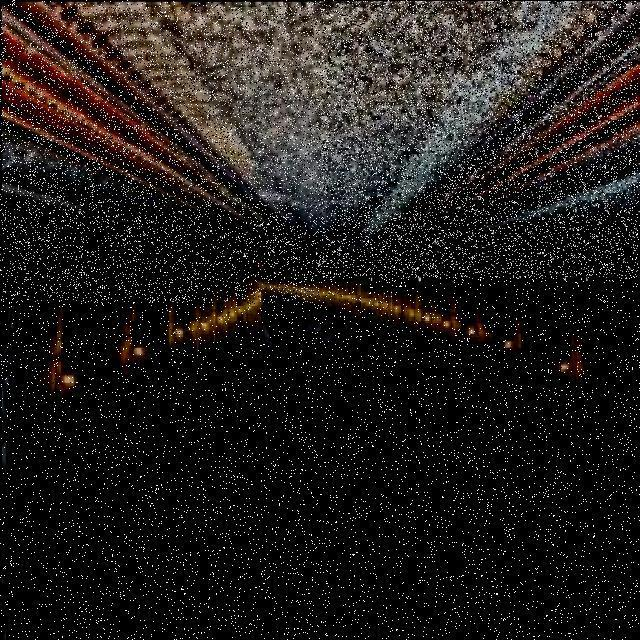rail: (1, 7, 320, 303), (321, 1, 638, 279)
